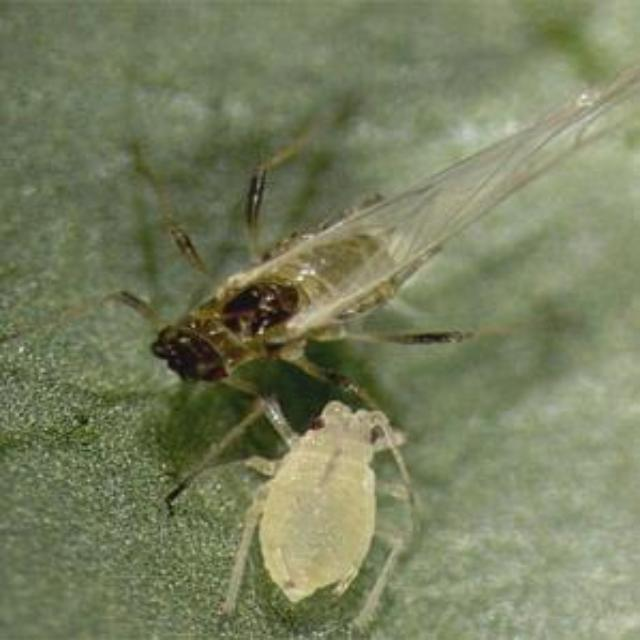Green peach aphid: (87, 110, 517, 414), (215, 376, 452, 630)
